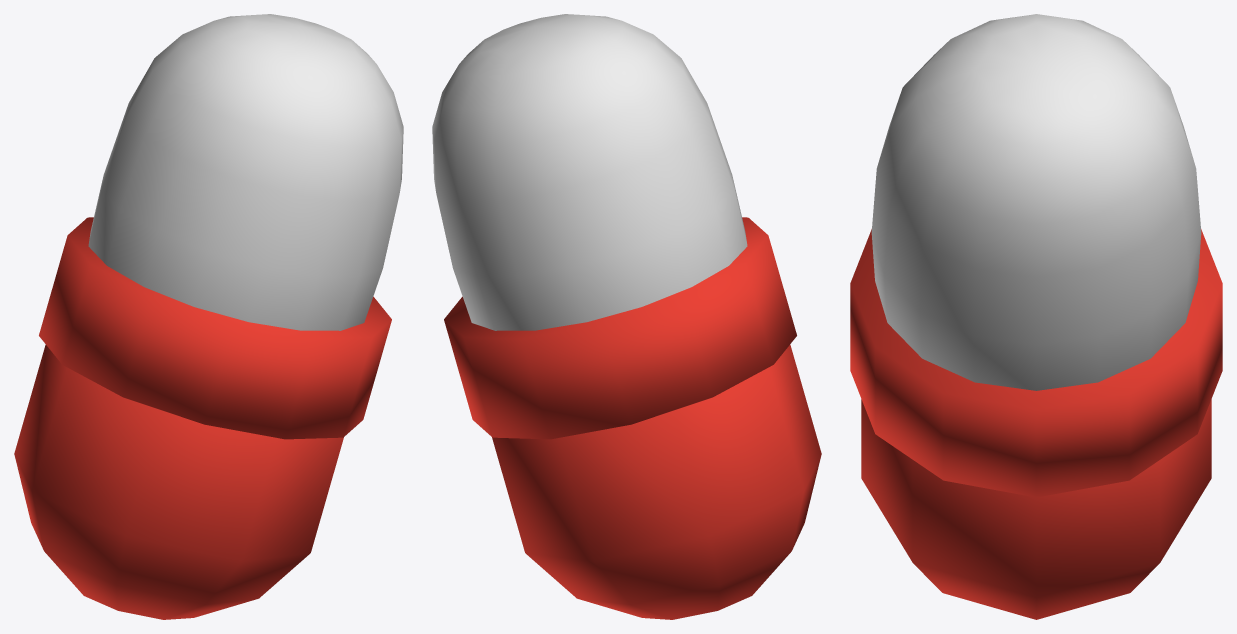
The model's file is Pills.fbx.
3 renders of one model, left to right at view 1: azimuth 30°, elevation 25°; view 2: azimuth 150°, elevation 25°; view 3: azimuth 270°, elevation 25°, orthographic. The views are drawn at different scales.
Visible parts, largest first — view 1: Cylinder.001, Cylinder; view 2: Cylinder.001, Cylinder; view 3: Cylinder, Cylinder.001.
Part boxes in pixels (<box>): Cylinder.001: <box>14,217,391,619</box>; Cylinder: <box>88,14,403,330</box>; Cylinder.001: <box>444,217,821,619</box>; Cylinder: <box>432,14,747,330</box>; Cylinder: <box>871,14,1201,390</box>; Cylinder.001: <box>850,229,1222,619</box>.
Size of the model in its own units: 259 by 392 by 213.
